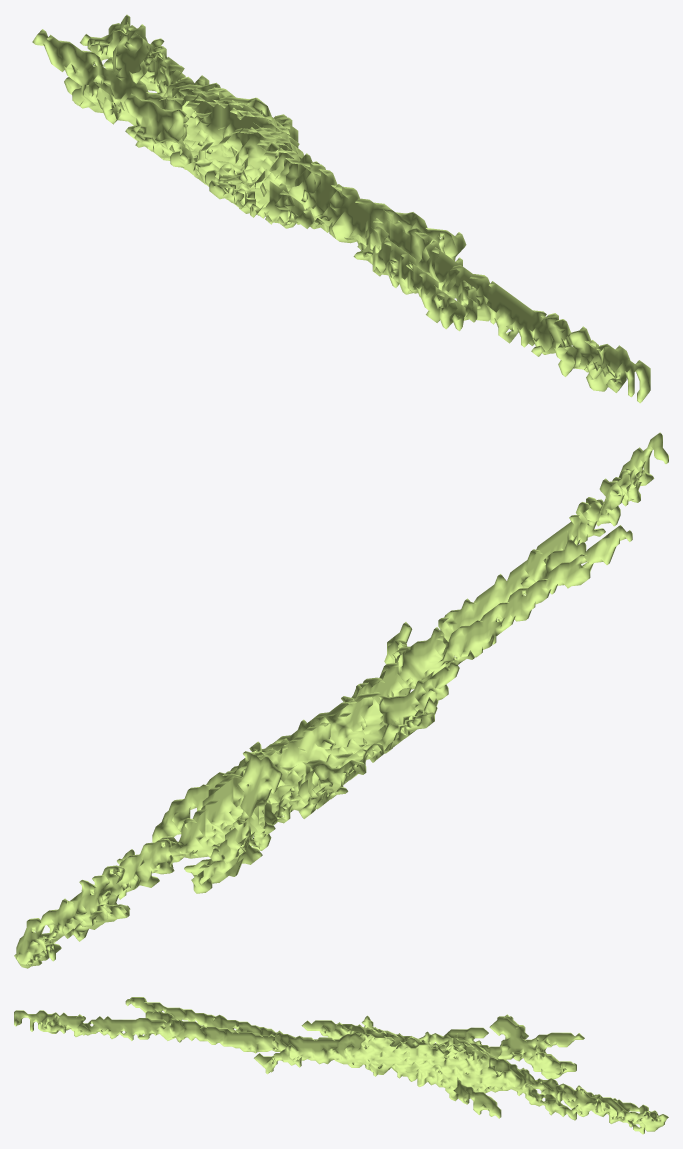
File: osteocyte_16.glb
3 views of the same model, one above another, from view 1: azimuth 30°, elevation 25°; view 2: azimuth 150°, elevation 25°; view 3: azimuth 270°, elevation 25° (orthographic). The views are drawn at different scales.
Parts seen in each view (by area): view 1: osteocyte_16; view 2: osteocyte_16; view 3: osteocyte_16.
Boxes of the visible parts, bbox=[...] form: osteocyte_16: bbox=[32, 14, 650, 403]; osteocyte_16: bbox=[14, 432, 668, 968]; osteocyte_16: bbox=[14, 997, 668, 1134].
Size of the model in its own units: 14.92 by 12.52 by 78.96.
